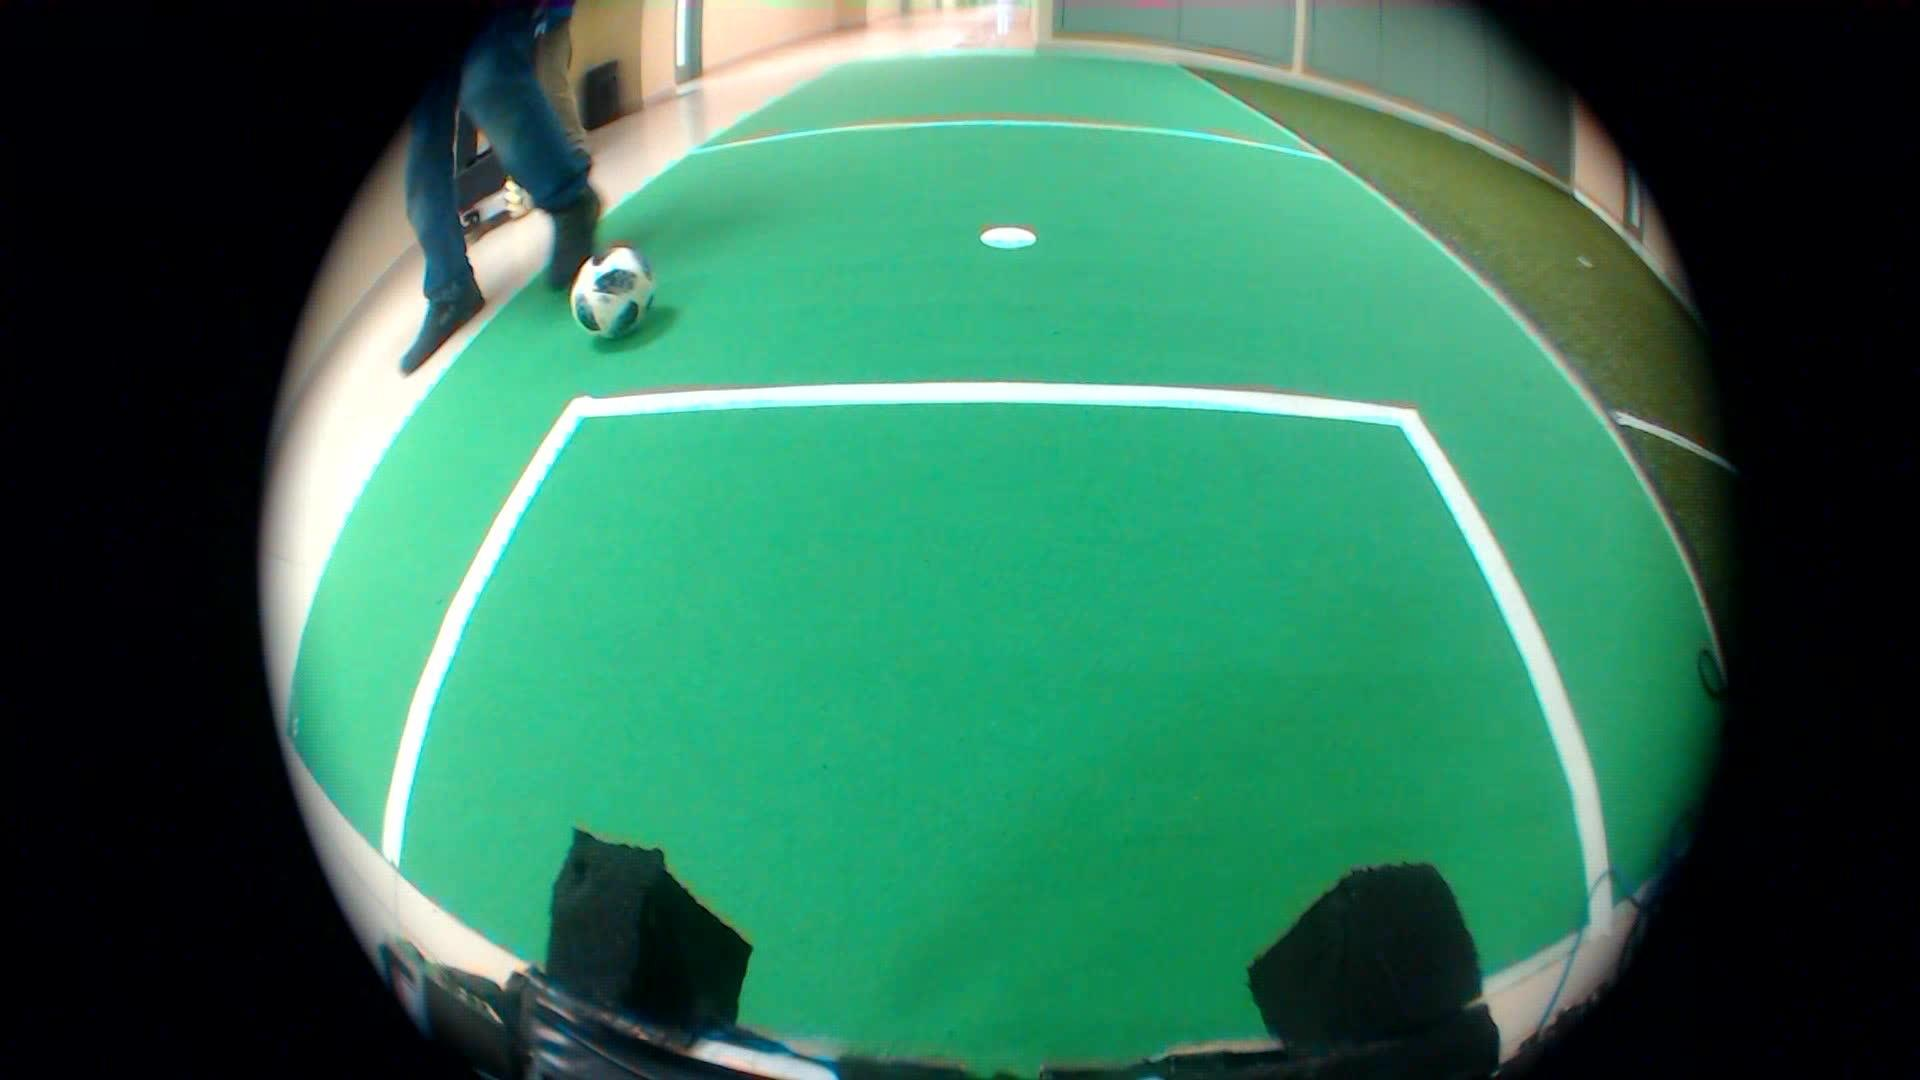ball: (567, 243, 658, 338)
